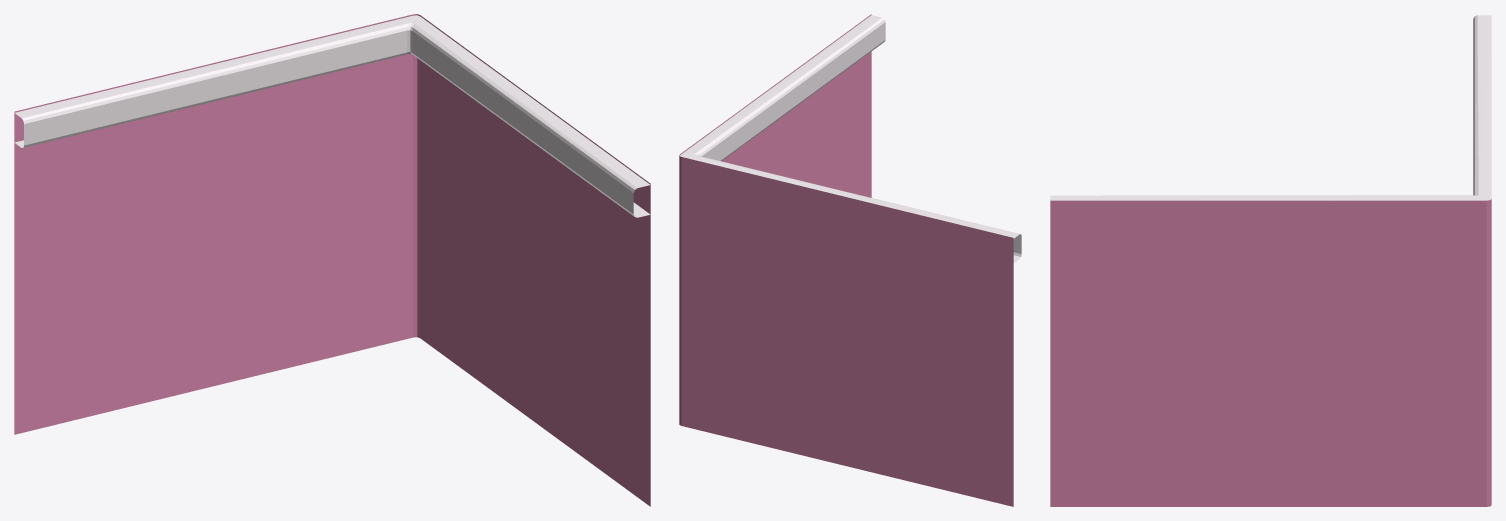
Rendered from SM_House_Base_InnerCorner_A.fbx.
3 views of the same model, side by side, from view 1: azimuth 30°, elevation 25°; view 2: azimuth 150°, elevation 25°; view 3: azimuth 270°, elevation 25° (orthographic). The views are drawn at different scales.
Visible parts, largest first — view 1: SM_House_Base_InnerCorner_A; view 2: SM_House_Base_InnerCorner_A; view 3: SM_House_Base_InnerCorner_A.
Part boxes in pixels (x1,y1,x2,y2): SM_House_Base_InnerCorner_A: (14, 14, 650, 506); SM_House_Base_InnerCorner_A: (679, 14, 1021, 506); SM_House_Base_InnerCorner_A: (1050, 15, 1491, 506).
Size of the model in its own units: 65.31 by 65.31 by 50.
